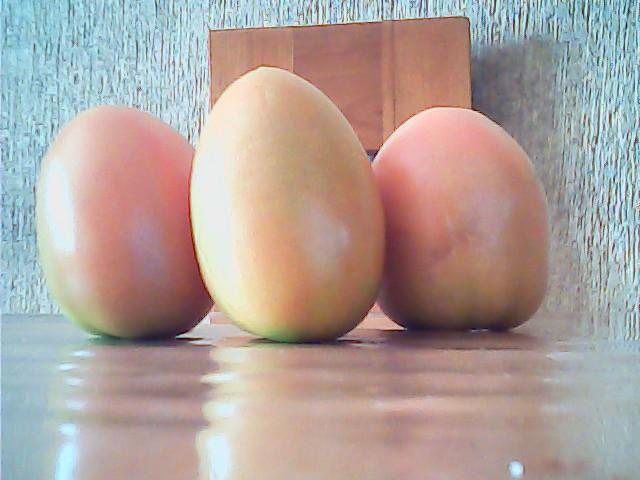verde: (192, 64, 385, 350), (34, 105, 209, 344), (368, 104, 546, 332)
